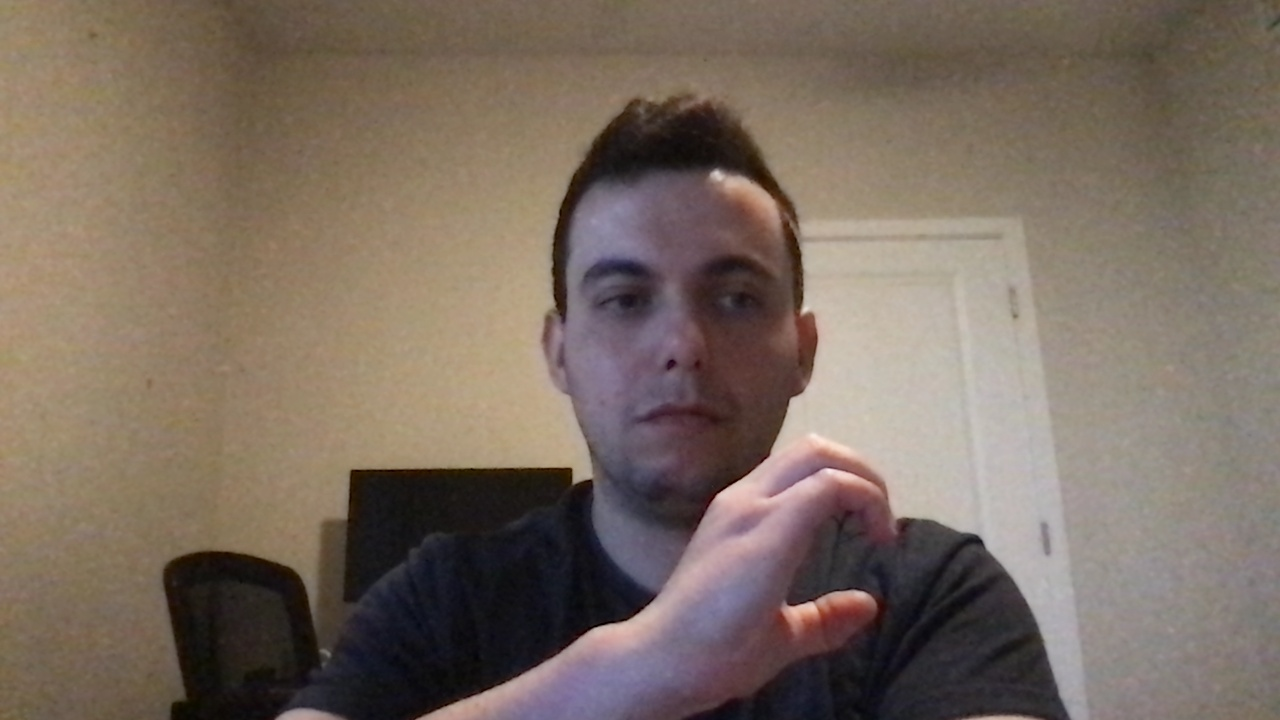c: (678, 425, 924, 699)
